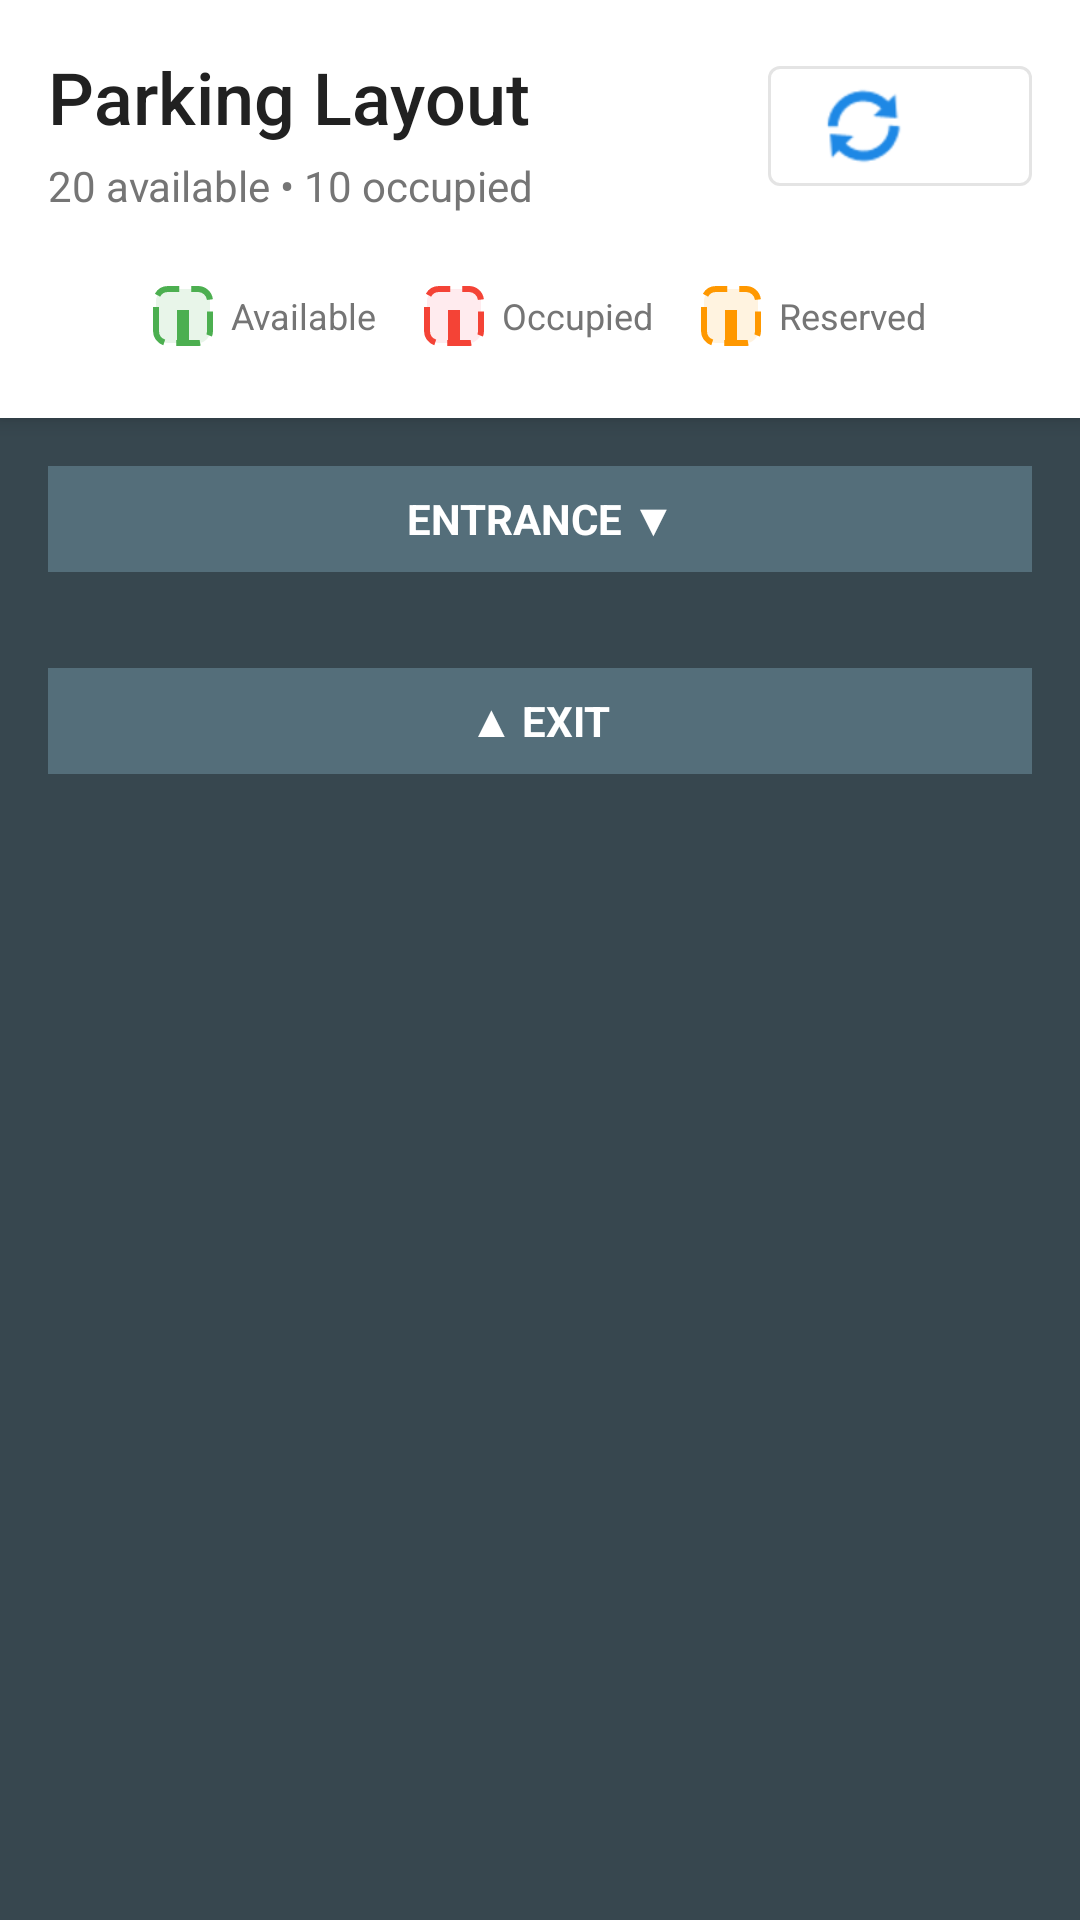

Named icons in this screenshot (1080px×1920px) and their centers, (x=x, y=y):
popup sync: (x=900, y=126)
